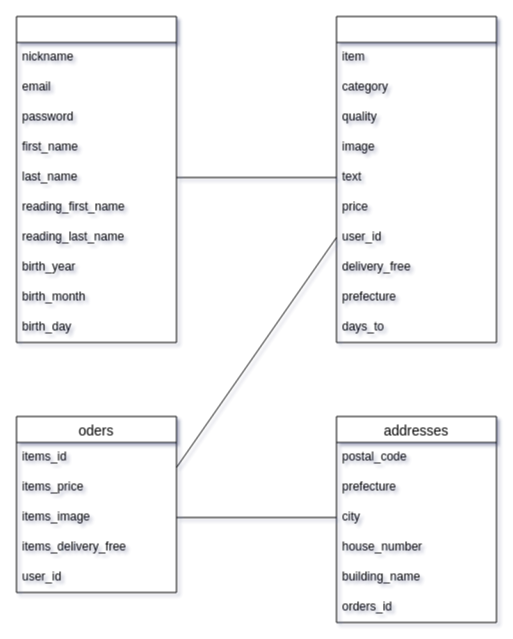
Image size: 513x639. Some labels were removed from this diagram. The box of each missing label's shape, as (x1, y1, x2, y2) in pixels:
items: (336, 16, 496, 342)
users: (16, 16, 176, 342)
